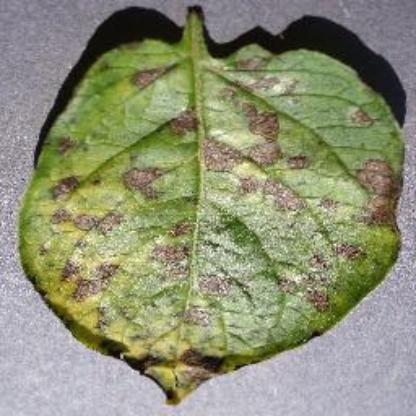Early-Blight: (19, 6, 412, 404)
